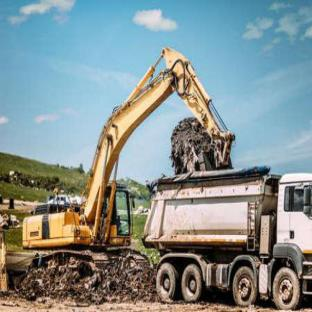ExcavationMachinery: (12, 36, 233, 297)
Vehicle: (145, 176, 312, 298)
